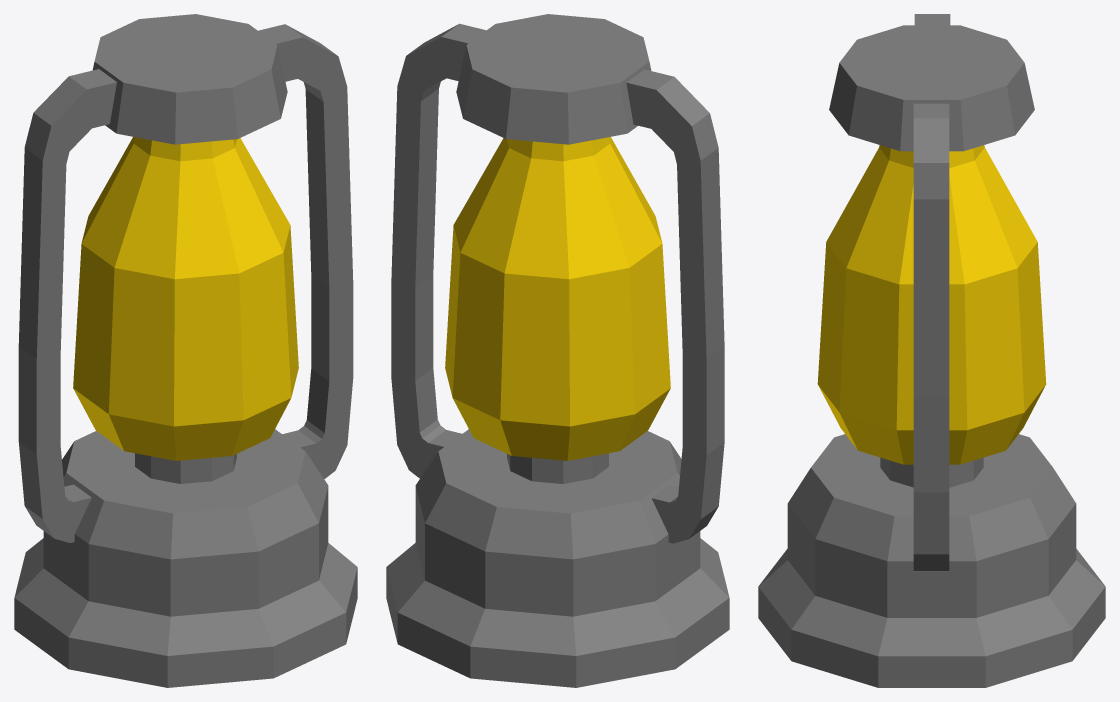
The model's file is Prop_Fantasy_Hand_Lantern_Metal_01.FBX.
3 renders of one model, left to right at view 1: azimuth 30°, elevation 25°; view 2: azimuth 150°, elevation 25°; view 3: azimuth 270°, elevation 25°, orthographic.
Visible parts, largest first — view 1: Prop_Fantasy_Hand_Lantern_Metal_01; view 2: Prop_Fantasy_Hand_Lantern_Metal_01; view 3: Prop_Fantasy_Hand_Lantern_Metal_01.
Boxes of the visible parts, bbox=[...] form: Prop_Fantasy_Hand_Lantern_Metal_01: bbox=[14, 14, 357, 687]; Prop_Fantasy_Hand_Lantern_Metal_01: bbox=[386, 14, 729, 687]; Prop_Fantasy_Hand_Lantern_Metal_01: bbox=[758, 14, 1105, 687].
Size of the model in its own units: 255 by 433 by 246.
